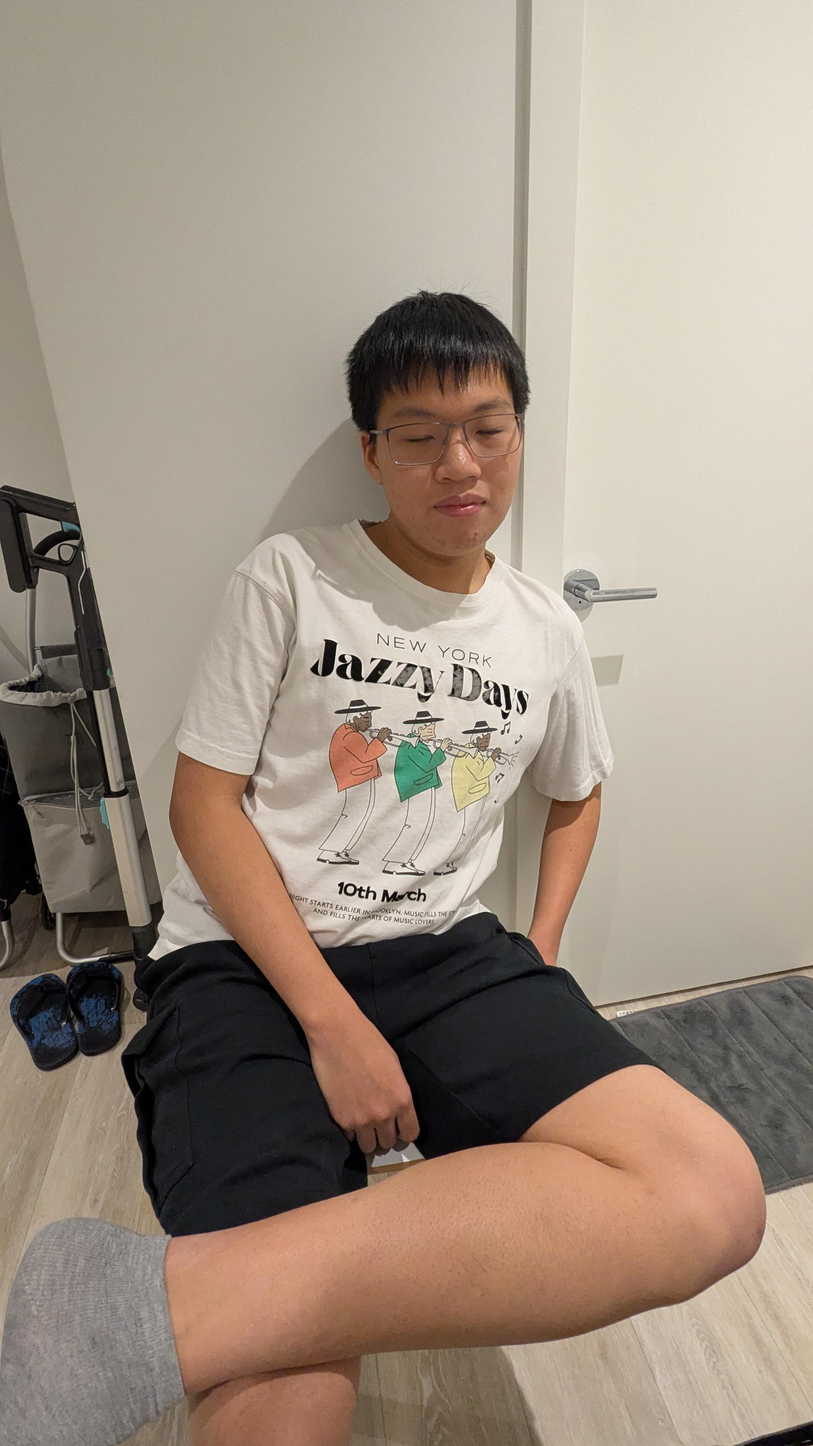BadPosture: (0, 290, 767, 1446)
